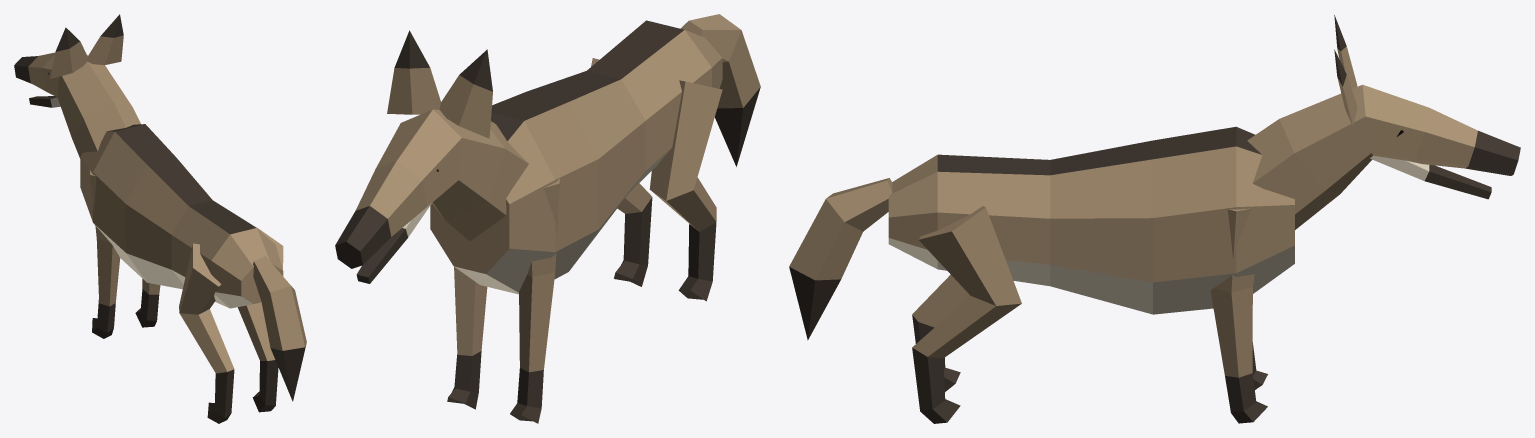
The model's file is coyote.glb.
The picture shows the model from 3 angles, left to right: view 1: azimuth 30°, elevation 25°; view 2: azimuth 150°, elevation 25°; view 3: azimuth 270°, elevation 25°; orthographic projection. The views are drawn at different scales.
Visible parts, largest first — view 1: Body, Head, Leg_BL, Tail, Leg_BR, Leg_FL, Ear_L, Ear_R, Leg_FR, Jaw; view 2: Body, Head, Leg_BL, Leg_FL, Tail, Leg_FR, Ear_L, Ear_R, Leg_BR, Jaw; view 3: Body, Head, Leg_BR, Tail, Leg_FR, Leg_BL, Jaw, Ear_R.
Boxes of the visible parts, box(x1,y1,x2,y2) form: Body: box(80, 124, 283, 308); Head: box(14, 52, 140, 158); Leg_BL: box(179, 243, 234, 423); Tail: box(253, 256, 306, 401); Leg_BR: box(238, 228, 283, 412); Leg_FL: box(89, 170, 120, 338); Ear_L: box(50, 27, 87, 78); Ear_R: box(87, 14, 123, 65); Leg_FR: box(135, 279, 160, 327); Jaw: box(29, 96, 60, 107); Body: box(430, 20, 722, 294); Head: box(335, 109, 528, 268); Leg_BL: box(649, 80, 722, 301); Leg_FL: box(510, 179, 559, 423); Tail: box(681, 14, 760, 166); Leg_FR: box(447, 267, 487, 409); Ear_L: box(439, 49, 492, 138); Ear_R: box(387, 30, 440, 114); Leg_BR: box(591, 58, 652, 286); Jaw: box(356, 202, 432, 283); Body: box(888, 126, 1294, 314); Head: box(1247, 84, 1520, 229); Leg_BR: box(912, 206, 1021, 423); Tail: box(789, 178, 892, 340); Leg_FR: box(1210, 208, 1267, 423); Leg_BL: box(912, 274, 970, 391); Jaw: box(1370, 155, 1491, 199); Ear_R: box(1334, 49, 1357, 125).
Size of the model in its own units: 0.2799 by 0.847 by 1.49.
